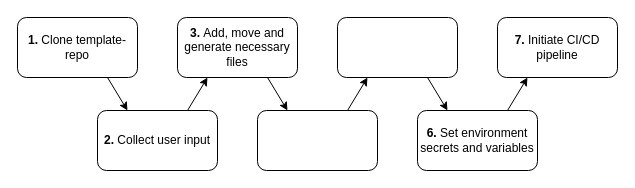
This 635x188 diagram has some shape labels left out. The centre of each missing label's shape, as x and y in pixels:
4. Init git and push files to remote: pixel 317 140
5. Generate cloud resources: pixel 397 47
